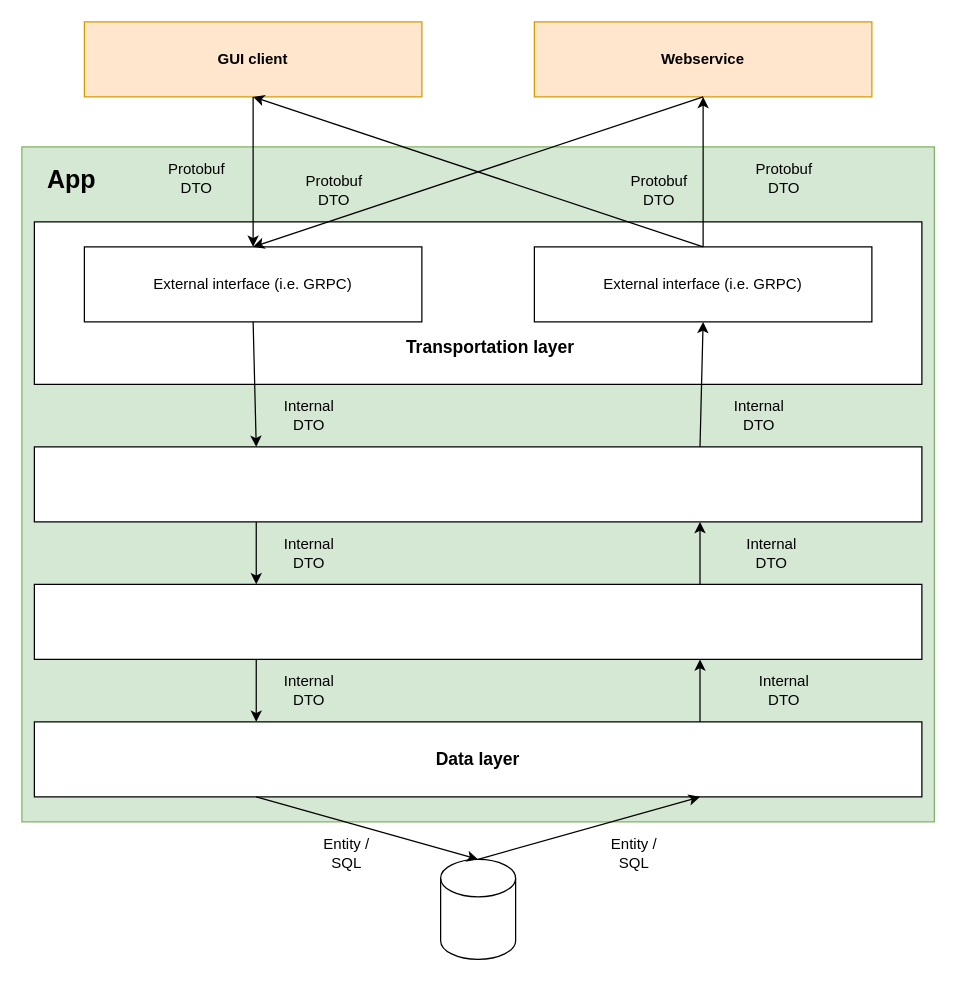
This 956x981 diagram has some shape labels left out. The centre of each missing label's shape, as x and y in pixels:
App business logic layer: pixel 477 621
Business transaction layer (BusinessTransactionManager): pixel 477 484
Database: pixel 477 908
